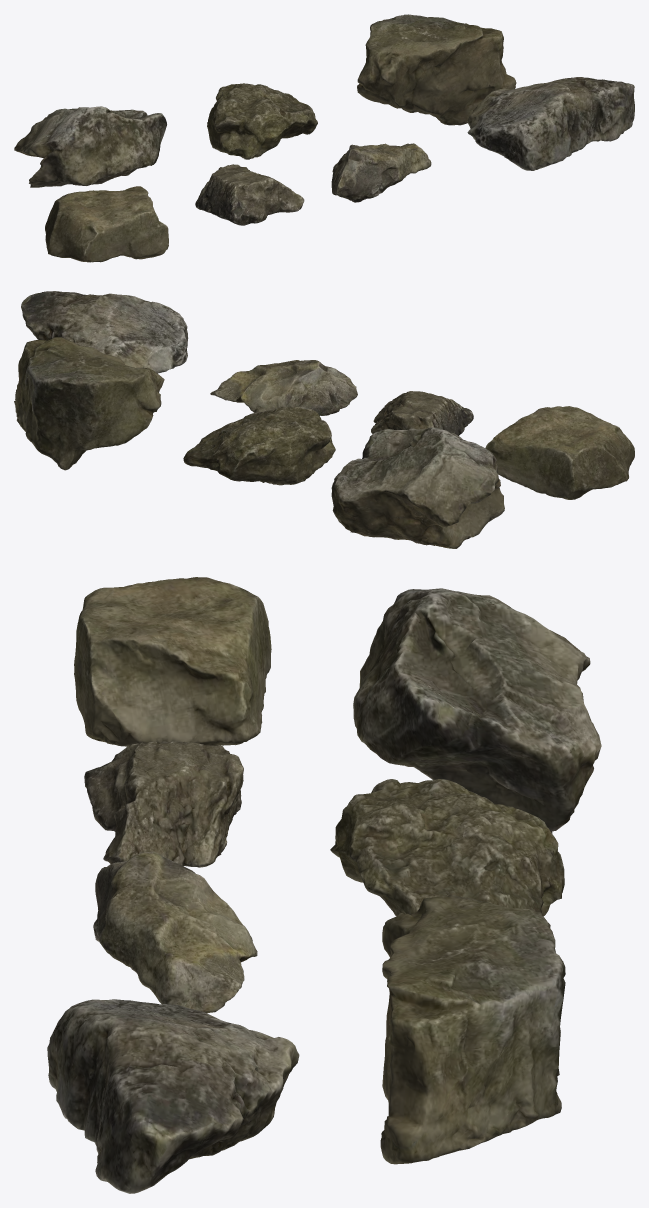
Rendered from rock_moss_set_02.glb.
The picture shows the model from 3 angles, top to bottom: view 1: azimuth 30°, elevation 25°; view 2: azimuth 150°, elevation 25°; view 3: azimuth 270°, elevation 25°; orthographic projection. The views are drawn at different scales.
Visible parts, largest first — view 1: rock_moss_set_02_rock13, rock_moss_set_02_rock10, rock_moss_set_02_rock11, rock_moss_set_02_rock07, rock_moss_set_02_rock12, rock_moss_set_02_rock08, rock_moss_set_02_rock09; view 2: rock_moss_set_02_rock11, rock_moss_set_02_rock13, rock_moss_set_02_rock07, rock_moss_set_02_rock10, rock_moss_set_02_rock12, rock_moss_set_02_rock09, rock_moss_set_02_rock08; view 3: rock_moss_set_02_rock13, rock_moss_set_02_rock11, rock_moss_set_02_rock10, rock_moss_set_02_rock07, rock_moss_set_02_rock12, rock_moss_set_02_rock09, rock_moss_set_02_rock08.
Boxes of the visible parts, x1,y1,x2,y2 form: rock_moss_set_02_rock13: [357, 14, 516, 125]; rock_moss_set_02_rock10: [467, 77, 634, 170]; rock_moss_set_02_rock11: [14, 106, 166, 187]; rock_moss_set_02_rock07: [45, 186, 168, 262]; rock_moss_set_02_rock12: [207, 83, 317, 159]; rock_moss_set_02_rock08: [195, 164, 304, 225]; rock_moss_set_02_rock09: [331, 143, 431, 202]; rock_moss_set_02_rock11: [331, 427, 504, 548]; rock_moss_set_02_rock13: [14, 337, 164, 470]; rock_moss_set_02_rock07: [485, 406, 634, 499]; rock_moss_set_02_rock10: [21, 291, 188, 373]; rock_moss_set_02_rock12: [183, 406, 335, 485]; rock_moss_set_02_rock09: [210, 360, 357, 415]; rock_moss_set_02_rock08: [371, 391, 473, 435]; rock_moss_set_02_rock13: [380, 895, 565, 1164]; rock_moss_set_02_rock11: [353, 588, 601, 833]; rock_moss_set_02_rock10: [47, 999, 299, 1193]; rock_moss_set_02_rock07: [74, 577, 271, 746]; rock_moss_set_02_rock12: [330, 779, 564, 927]; rock_moss_set_02_rock09: [93, 851, 257, 1013]; rock_moss_set_02_rock08: [84, 741, 243, 867].
Bounding box in the file's own units: 8.28 × 1.37 × 3.41.
Materials: 1 (1 with a texture image).
